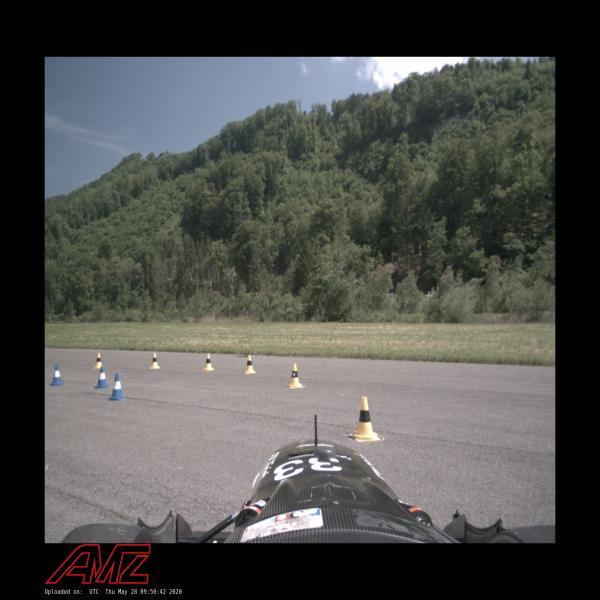blue_cone: (109, 373, 126, 401), (93, 366, 109, 389), (49, 364, 64, 386)
yellow_cone: (349, 397, 380, 442), (286, 364, 303, 389), (244, 354, 256, 375), (202, 353, 214, 371), (92, 353, 104, 369), (150, 352, 160, 370)
